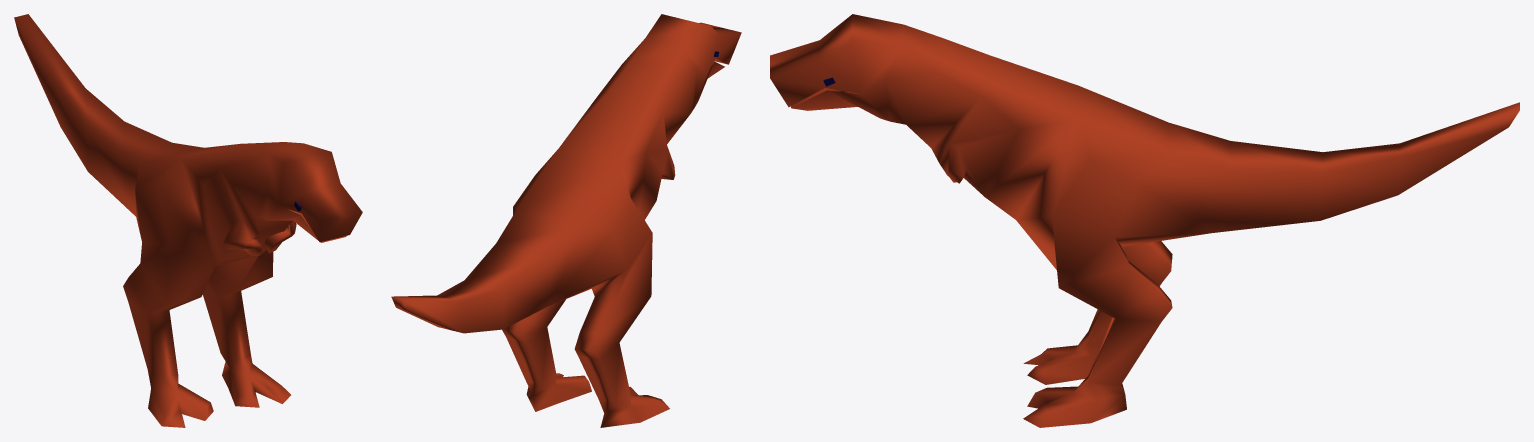
The model's file is B_Dino.FBX.
The picture shows the model from 3 angles, left to right: view 1: azimuth 30°, elevation 25°; view 2: azimuth 150°, elevation 25°; view 3: azimuth 270°, elevation 25°; orthographic projection. The views are drawn at different scales.
Parts seen in each view (by area): view 1: model; view 2: model; view 3: model.
Boxes of the visible parts, x1=… form: model: x1=14, y1=14, x2=362, y2=427; model: x1=391, y1=14, x2=741, y2=427; model: x1=770, y1=14, x2=1519, y2=427.
Size of the model in its own units: 33.01 by 75.99 by 142.
